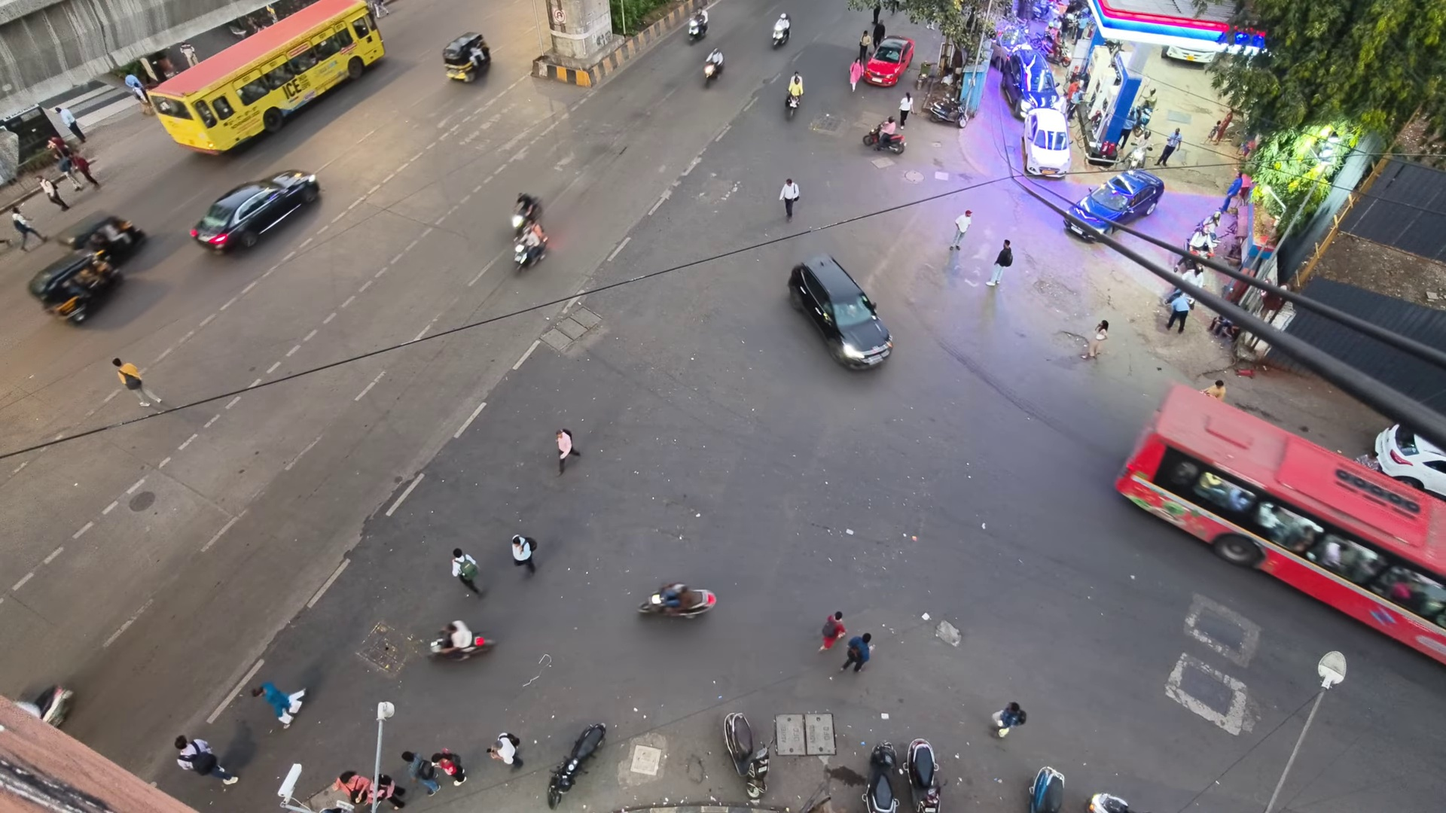walking: (175, 735, 238, 784), (336, 771, 404, 808), (252, 682, 305, 727), (113, 358, 162, 406), (401, 751, 439, 795), (12, 206, 47, 250), (432, 749, 466, 785), (488, 734, 522, 769), (452, 549, 479, 593), (53, 105, 85, 142), (993, 702, 1026, 737), (840, 633, 869, 672), (986, 240, 1011, 285), (819, 611, 846, 651), (39, 176, 69, 211), (557, 429, 580, 474), (1081, 320, 1108, 358), (1219, 171, 1243, 212), (1156, 128, 1182, 165), (70, 154, 99, 187), (511, 534, 535, 573), (1167, 296, 1192, 333), (1210, 108, 1234, 144), (779, 178, 800, 219), (950, 210, 971, 249), (59, 157, 82, 190), (1162, 287, 1193, 304), (1202, 379, 1225, 400), (899, 92, 912, 126), (179, 42, 198, 65), (859, 29, 872, 62), (850, 59, 863, 91), (871, 22, 884, 48), (1207, 120, 1222, 142), (372, 0, 389, 17), (872, 2, 881, 23)
